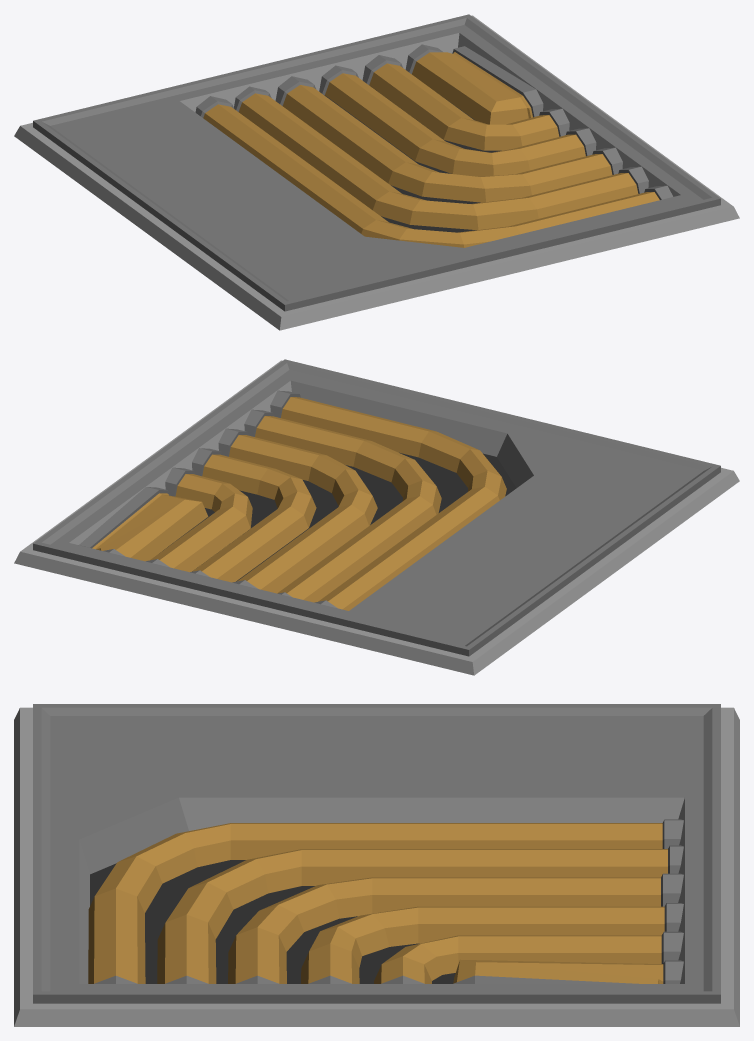
Rendered from RoofTile_InnerCorner_Pipes.glb.
The picture shows the model from 3 angles, top to bottom: view 1: azimuth 30°, elevation 25°; view 2: azimuth 150°, elevation 25°; view 3: azimuth 270°, elevation 25°; orthographic projection. The views are drawn at different scales.
Parts seen in each view (by area): view 1: RoofTile_InnerCorner_Pipes; view 2: RoofTile_InnerCorner_Pipes; view 3: RoofTile_InnerCorner_Pipes.
Boxes of the visible parts, x1=… form: RoofTile_InnerCorner_Pipes: x1=14, y1=14, x2=739, y2=330; RoofTile_InnerCorner_Pipes: x1=14, y1=359, x2=739, y2=675; RoofTile_InnerCorner_Pipes: x1=14, y1=704, x2=739, y2=1026.
Bounding box in the file's own units: 0.68 × 0.039 × 0.68.
